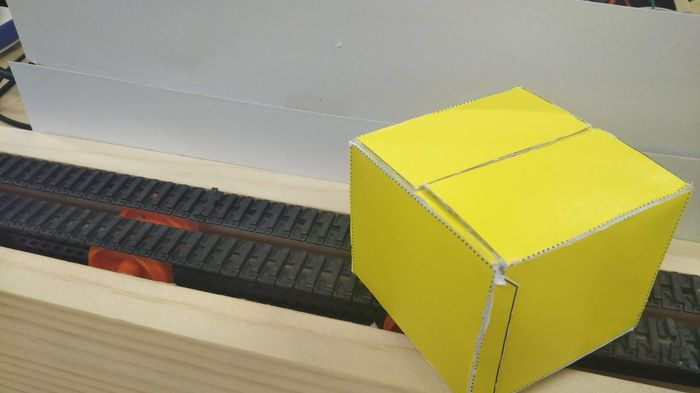box4: (340, 83, 690, 393)
